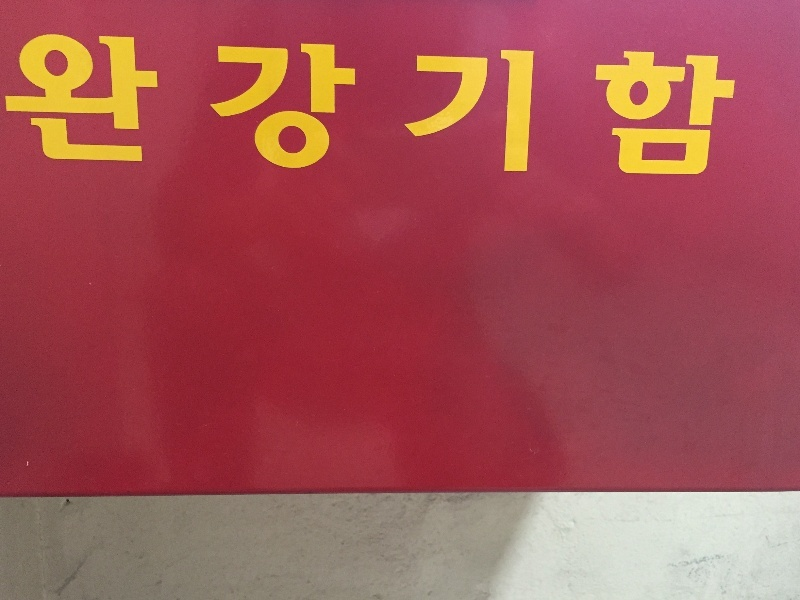text: (17, 30, 32, 182), (33, 30, 48, 182), (49, 30, 64, 182), (65, 30, 80, 182), (81, 30, 96, 182), (97, 30, 112, 182), (113, 30, 128, 182), (129, 30, 144, 182), (145, 30, 160, 182), (161, 30, 176, 182), (177, 30, 192, 182), (193, 30, 208, 182), (209, 30, 224, 182), (225, 30, 240, 182), (241, 30, 256, 182), (257, 30, 272, 182), (273, 30, 288, 182), (289, 30, 304, 182), (305, 30, 320, 182), (321, 30, 336, 182), (337, 30, 352, 182), (353, 30, 368, 182), (369, 30, 384, 182), (385, 30, 400, 182), (401, 30, 416, 182), (417, 30, 432, 182), (433, 30, 448, 182), (449, 30, 464, 182), (465, 30, 480, 182), (481, 30, 496, 182), (497, 30, 512, 182), (513, 30, 528, 182), (529, 30, 544, 182), (545, 30, 560, 182), (561, 30, 576, 182), (577, 30, 592, 182), (593, 30, 608, 182), (609, 30, 624, 182), (625, 30, 640, 182), (641, 30, 656, 182), (657, 30, 672, 182), (673, 30, 688, 182), (689, 30, 704, 182), (705, 30, 720, 182), (721, 30, 736, 182), (5, 30, 16, 182), (737, 30, 741, 182)
